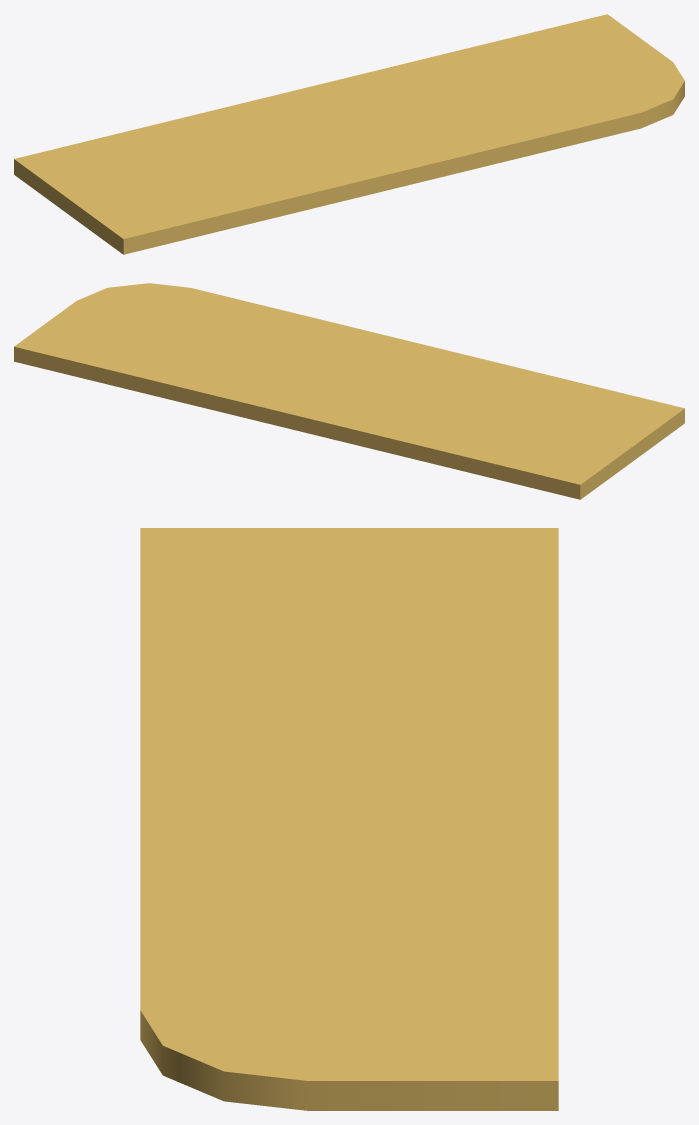
The model's file is corner R.fbx.
3 views of the same model, one above another, from view 1: azimuth 30°, elevation 25°; view 2: azimuth 150°, elevation 25°; view 3: azimuth 270°, elevation 25° (orthographic). The views are drawn at different scales.
Parts seen in each view (by area): view 1: Cube.007; view 2: Cube.007; view 3: Cube.007.
Part boxes in pixels (x1,y1,x2,y2): Cube.007: (14, 14, 684, 254); Cube.007: (14, 283, 684, 499); Cube.007: (140, 528, 558, 1110).
Size of the model in its own units: 96.5 by 2.44 by 30.84.
